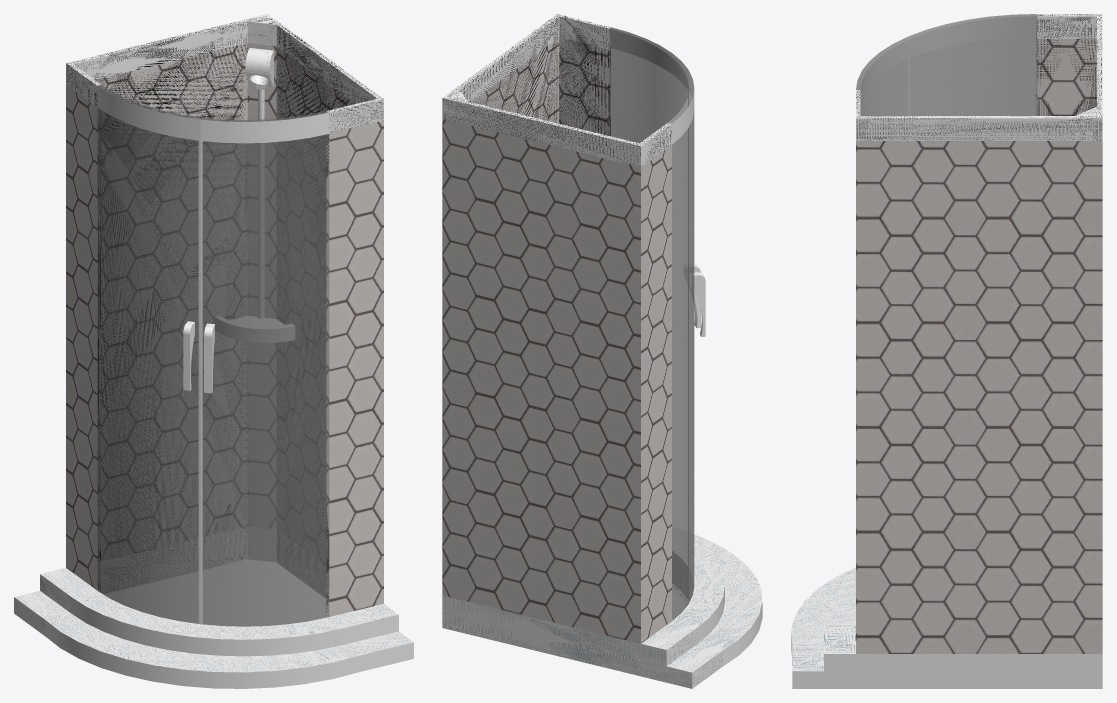
File: shower.fbx
3 renders of one model, left to right at view 1: azimuth 30°, elevation 25°; view 2: azimuth 150°, elevation 25°; view 3: azimuth 270°, elevation 25°, orthographic. The views are drawn at different scales.
Parts seen in each view (by area): view 1: Group3, Group1, Group2; view 2: Group3, Group2, Group1; view 3: Group3, Group2, Group1.
Part boxes in pixels (box(x1,y1,x2,y2)): Group3: box(66, 43, 383, 616); Group1: box(97, 85, 329, 626); Group2: box(14, 14, 413, 688); Group3: box(442, 37, 671, 643); Group2: box(442, 14, 762, 688); Group1: box(609, 27, 694, 620); Group3: box(856, 36, 1102, 653); Group2: box(791, 14, 1102, 688); Group1: box(856, 14, 1037, 115).
Bounding box in the file's own units: 0.7311 × 1.48 × 0.7311.
